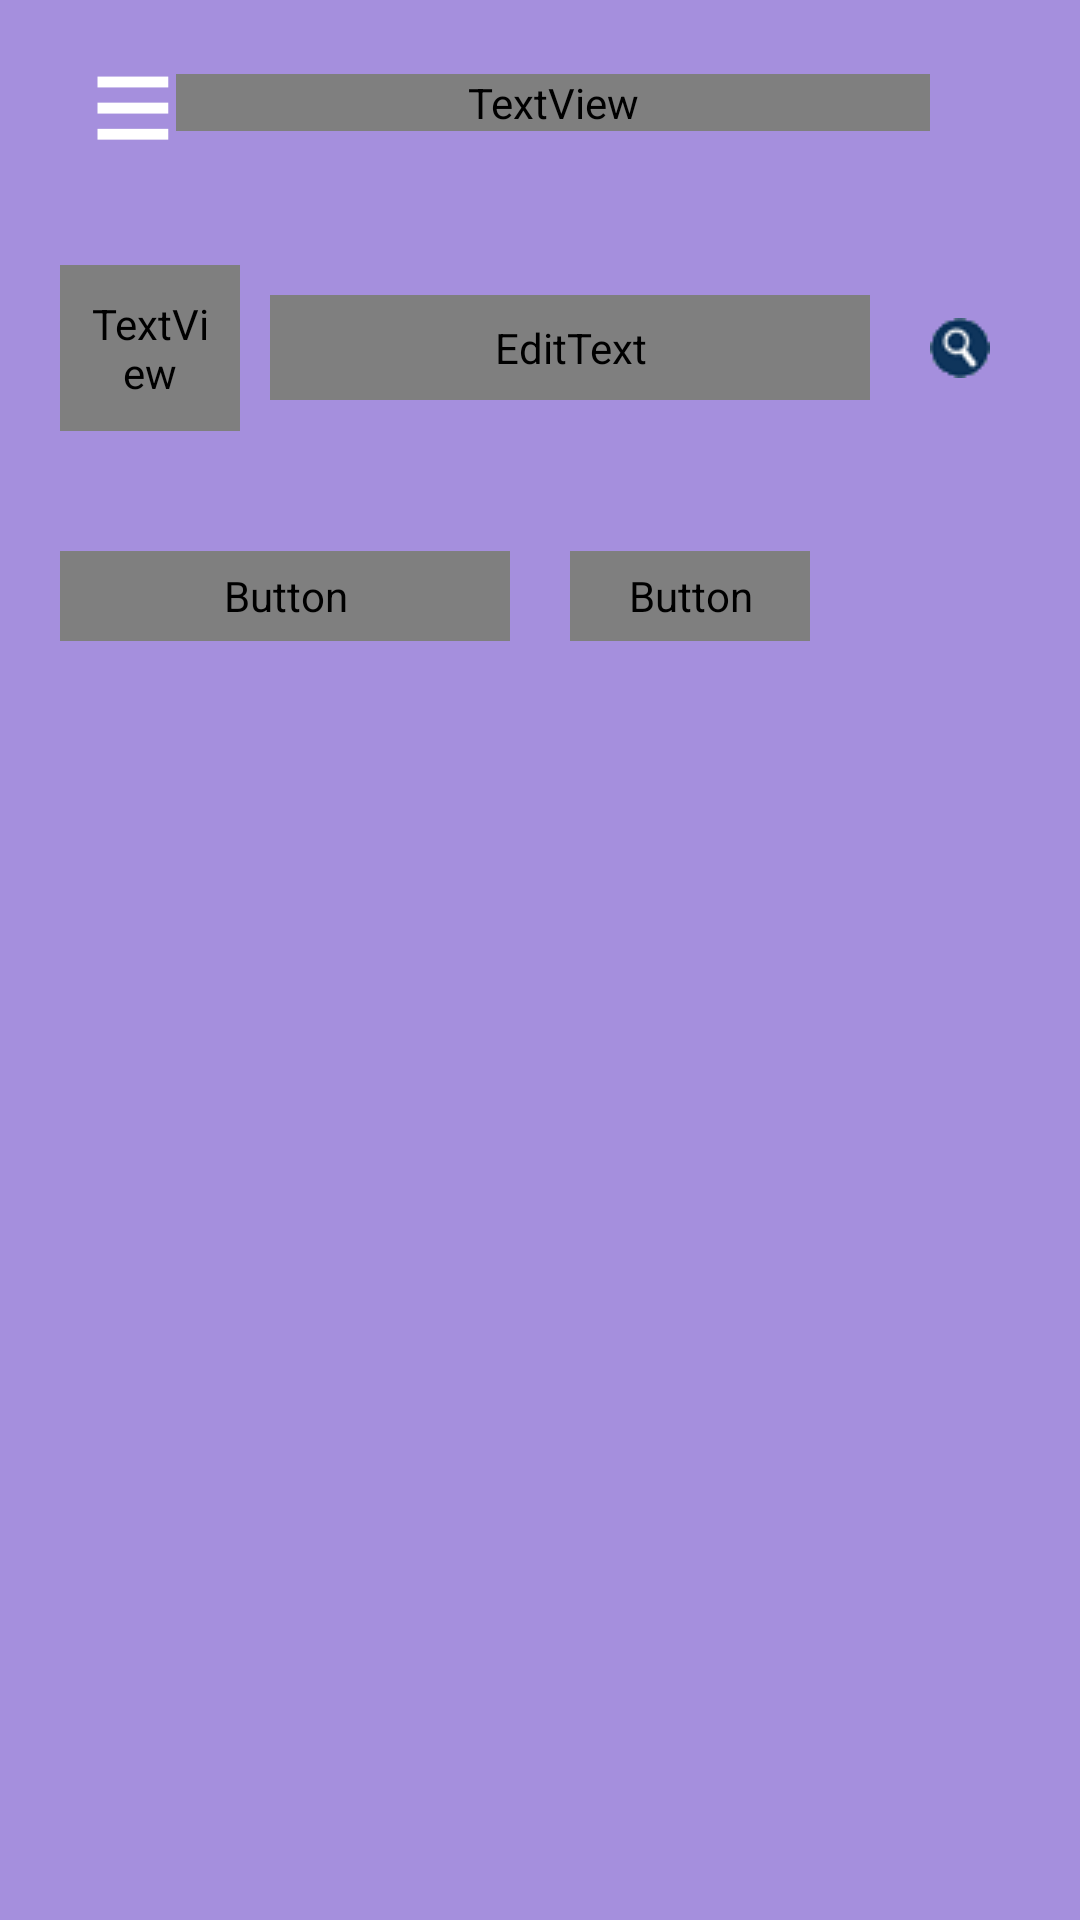

Icons on this 1080 x 1920 Android screen, each with the point to tap as (x=x, y=y):
serch: (x=960, y=348)
